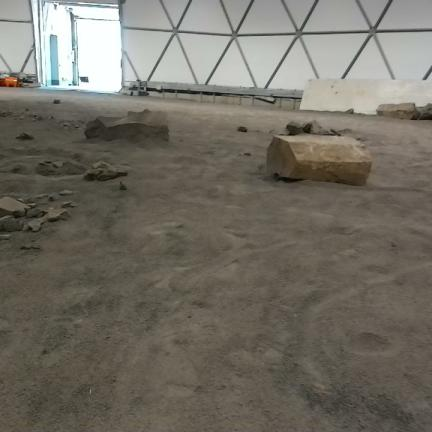Rock: (267, 135, 371, 185), (85, 110, 169, 142), (83, 161, 128, 181), (377, 103, 418, 119), (0, 197, 29, 217), (303, 121, 332, 135), (0, 216, 23, 232), (27, 216, 45, 232), (282, 122, 304, 135), (46, 210, 70, 221), (417, 104, 431, 119), (16, 132, 34, 140), (62, 201, 74, 208), (330, 129, 340, 136), (53, 161, 63, 168), (59, 190, 73, 195), (0, 234, 10, 241), (119, 182, 127, 190), (49, 194, 58, 201), (237, 126, 247, 132), (36, 194, 48, 199), (31, 245, 41, 250), (27, 203, 36, 208), (22, 245, 31, 250), (39, 162, 50, 166), (53, 99, 61, 104), (35, 116, 43, 121), (345, 109, 353, 113), (17, 198, 24, 202), (18, 116, 25, 119)
